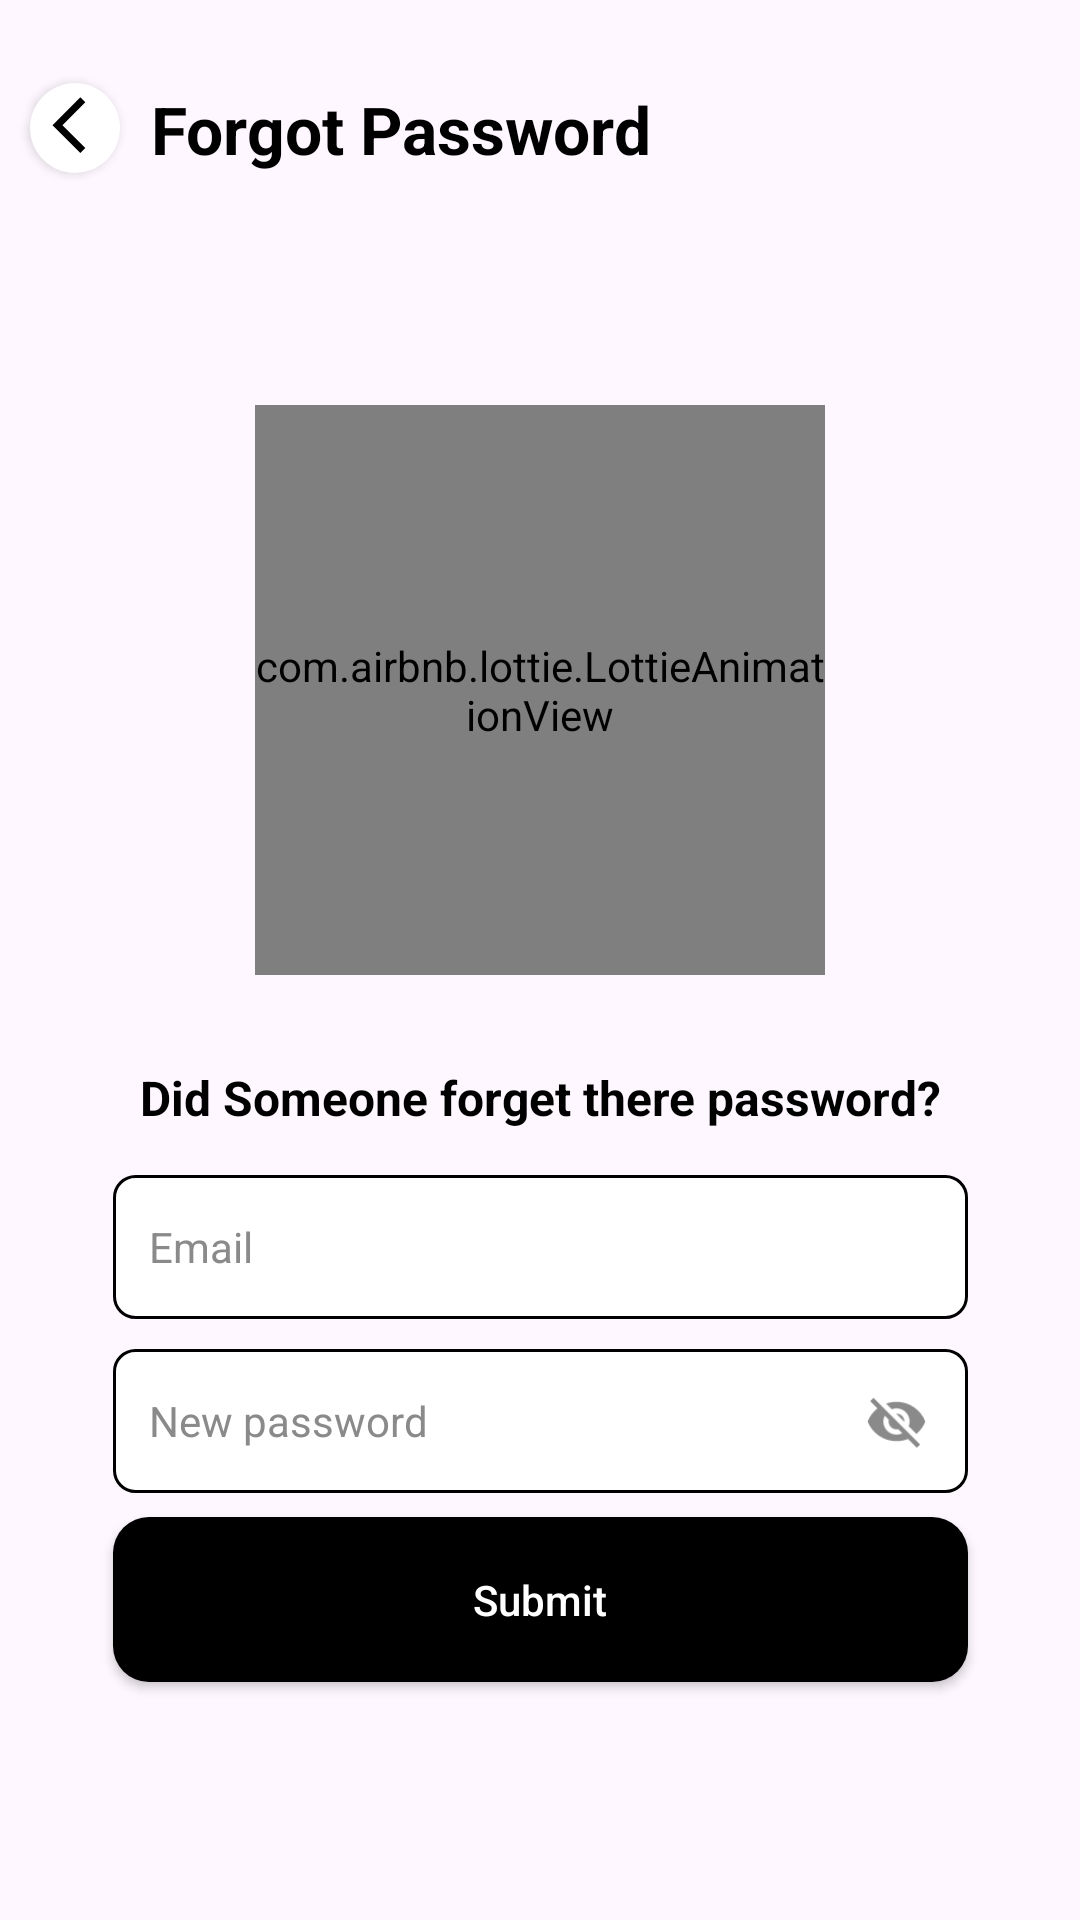

Point at icon controls on the screen. Image size 1080*1920, points as [x,y].
visibility off: [896,1423]
